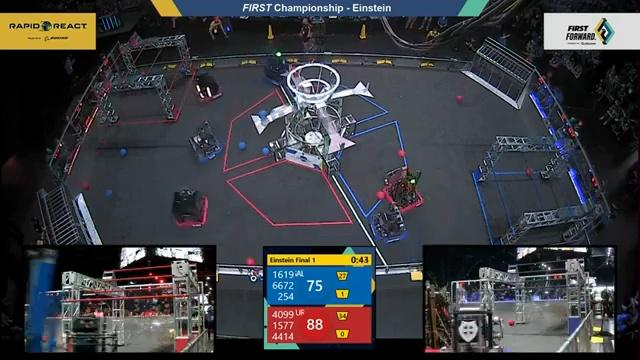robot: (449, 280, 507, 354), (158, 180, 216, 230), (377, 163, 431, 213), (182, 118, 231, 167), (363, 204, 413, 245), (255, 43, 301, 85), (424, 289, 451, 353), (188, 67, 228, 109)
